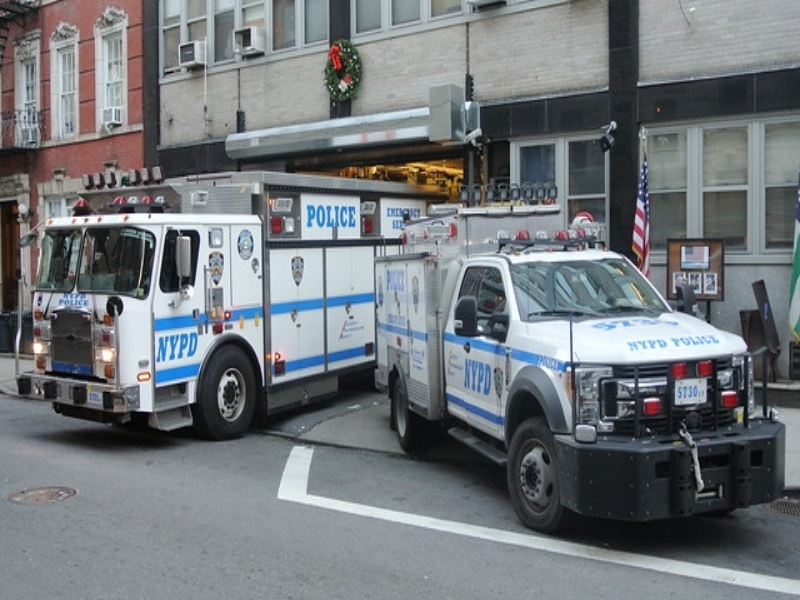policecar: (385, 206, 786, 526), (25, 160, 359, 421)
